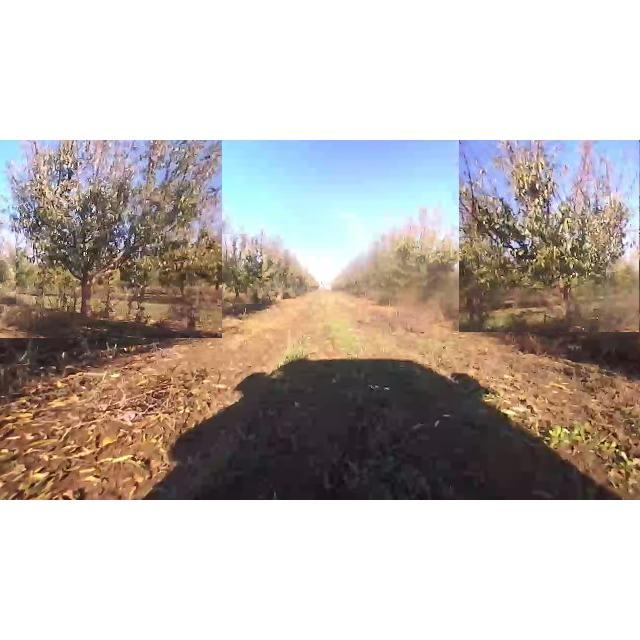direk: (0, 140, 222, 338), (459, 140, 639, 332), (384, 212, 464, 316), (206, 234, 262, 304)
